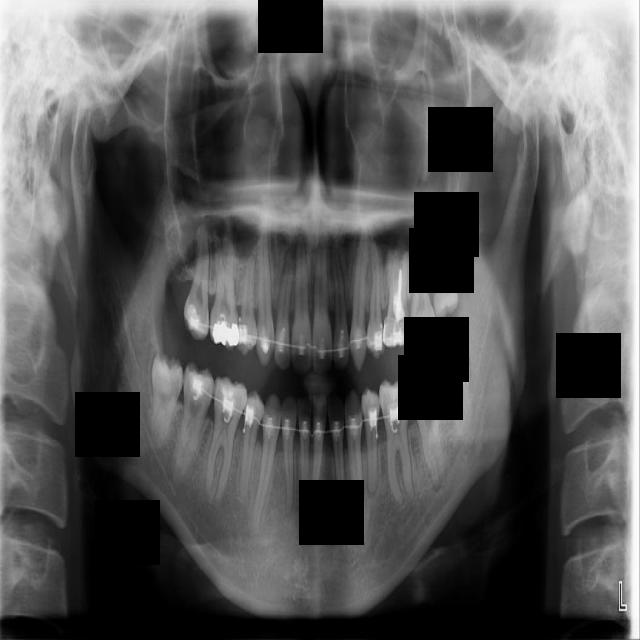73: (593, 574, 597, 582)
BioHorizons Implant: (408, 233, 438, 352)
BioLife Implant: (431, 227, 459, 322)
Biomet 3i Implant: (438, 350, 476, 447)
Blue Sky Bio Implant: (410, 373, 447, 486)
Caries: (184, 212, 210, 340)
Implant: (172, 360, 218, 485)
Keystone Dental Implant: (149, 354, 184, 450)
